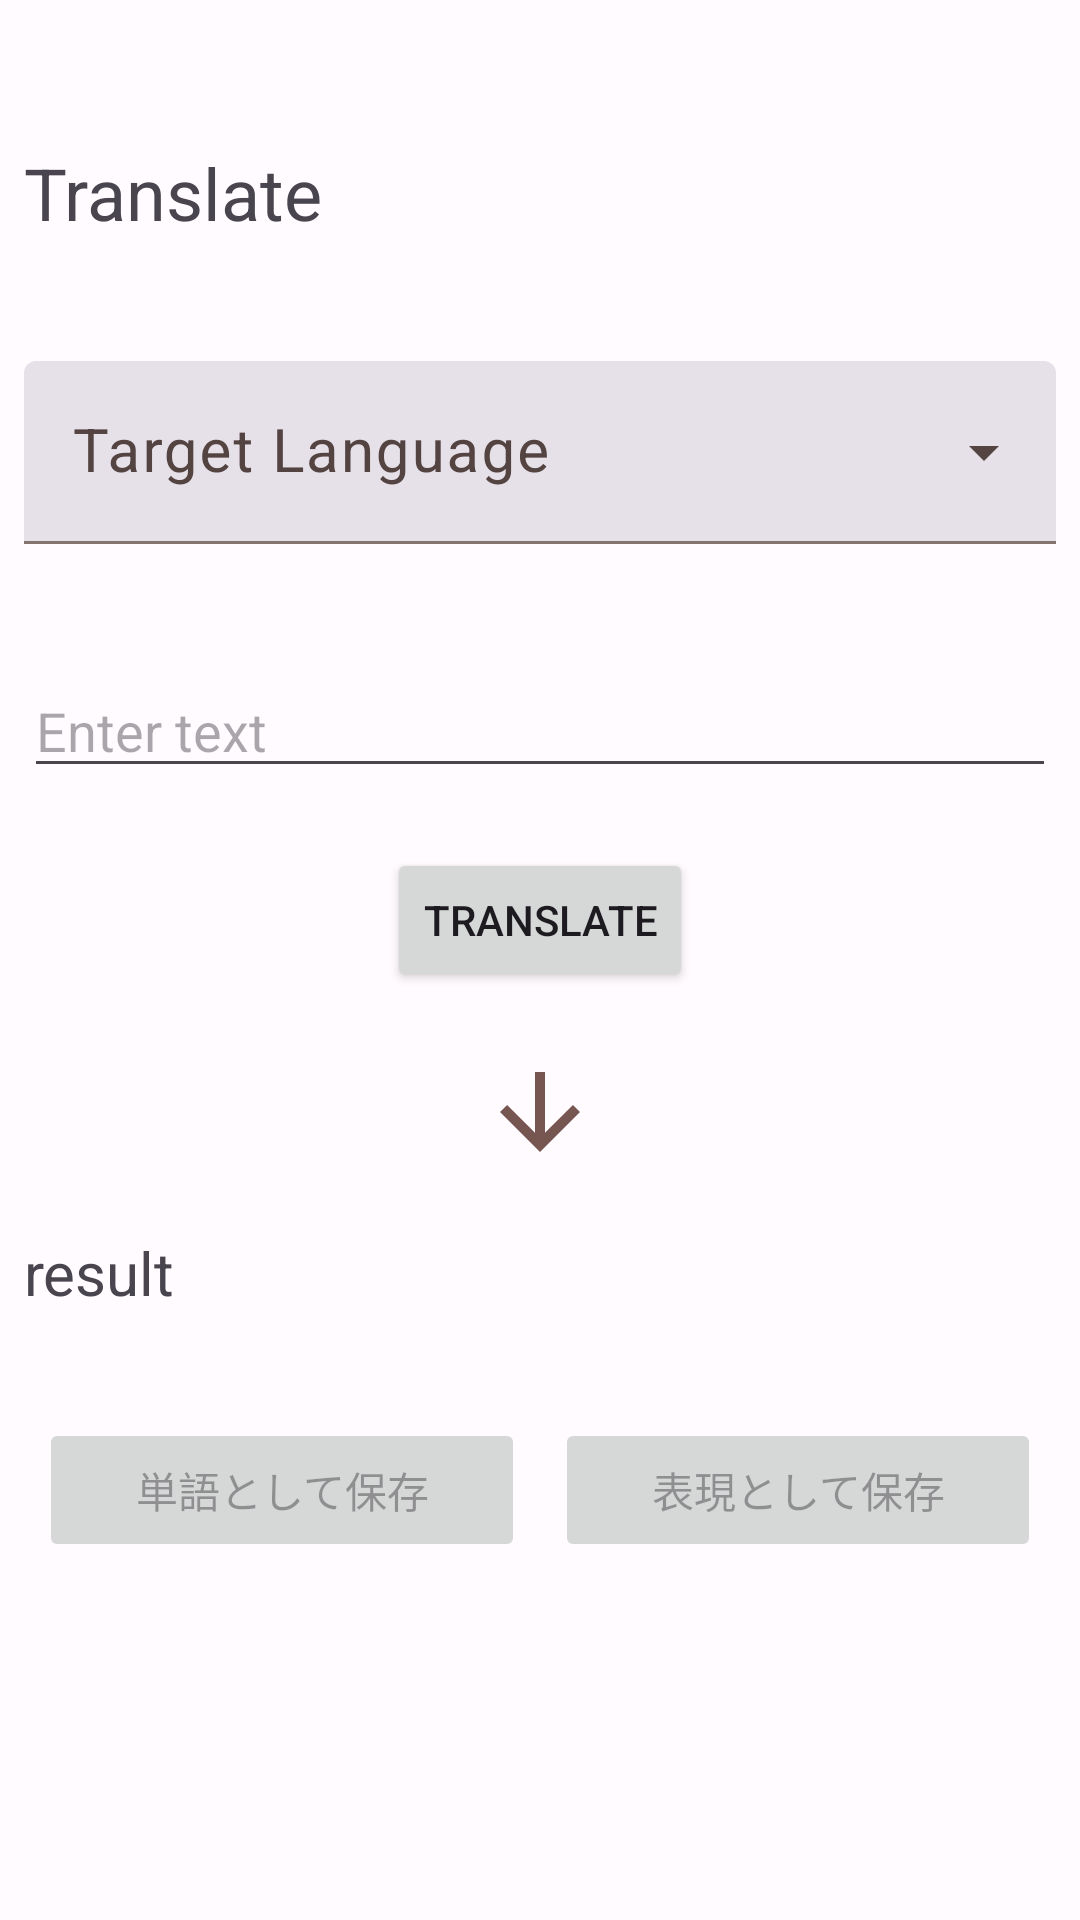

Locate icon controls on the screen. Image size 1080w x 1920h, boxes as (x1, y1, x2, y2).
arrow downward: (500, 1072, 580, 1152)
